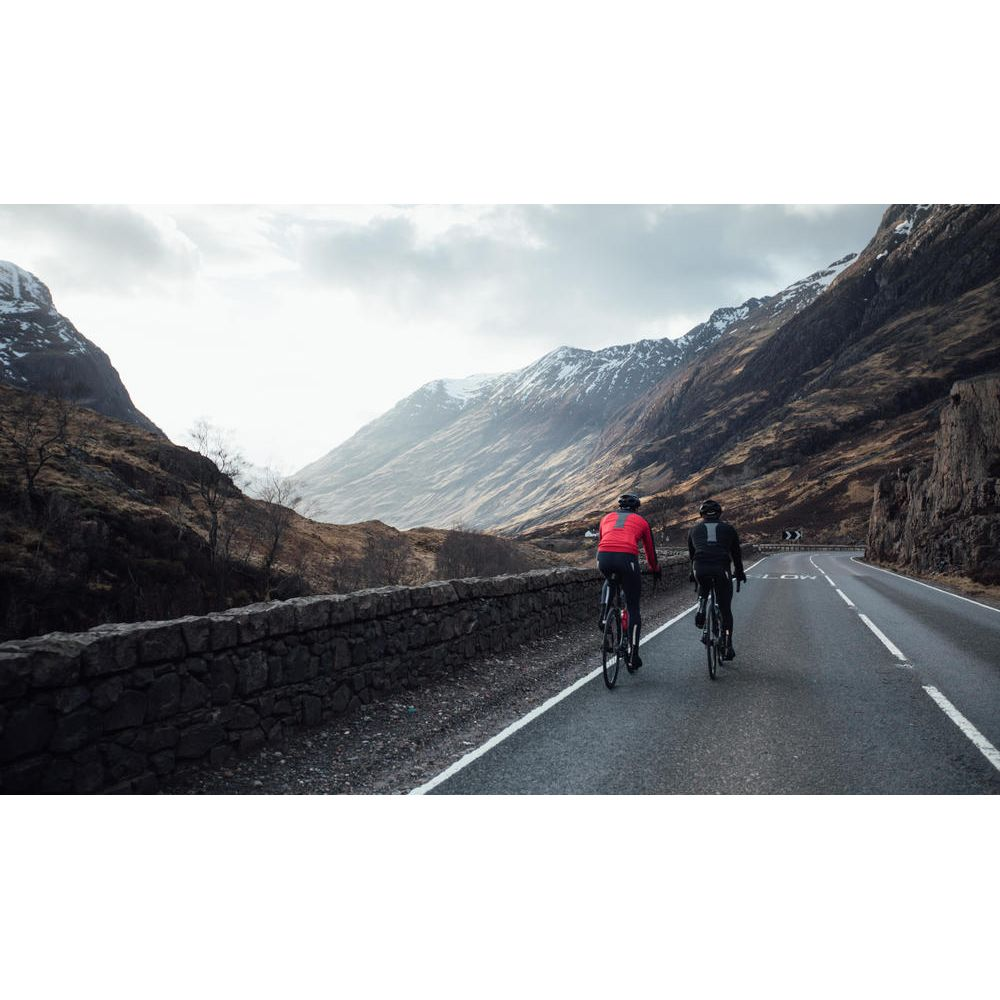RoadBike: (682, 557, 753, 692), (584, 560, 653, 694)
